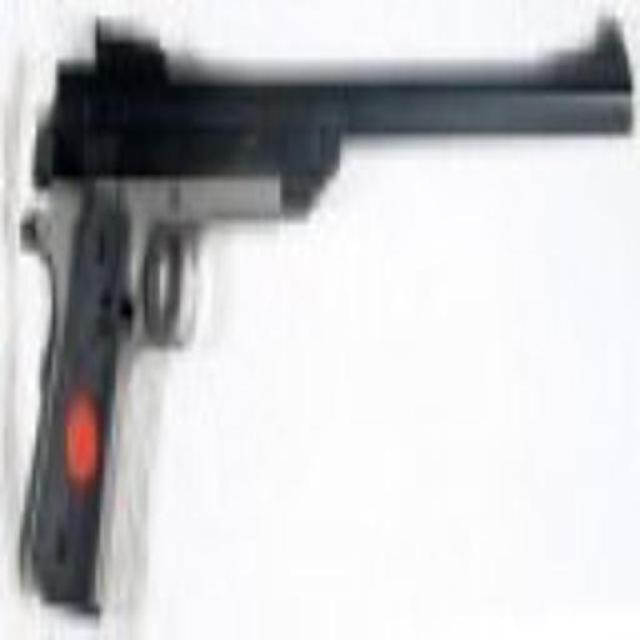pistol: (11, 15, 631, 617)
